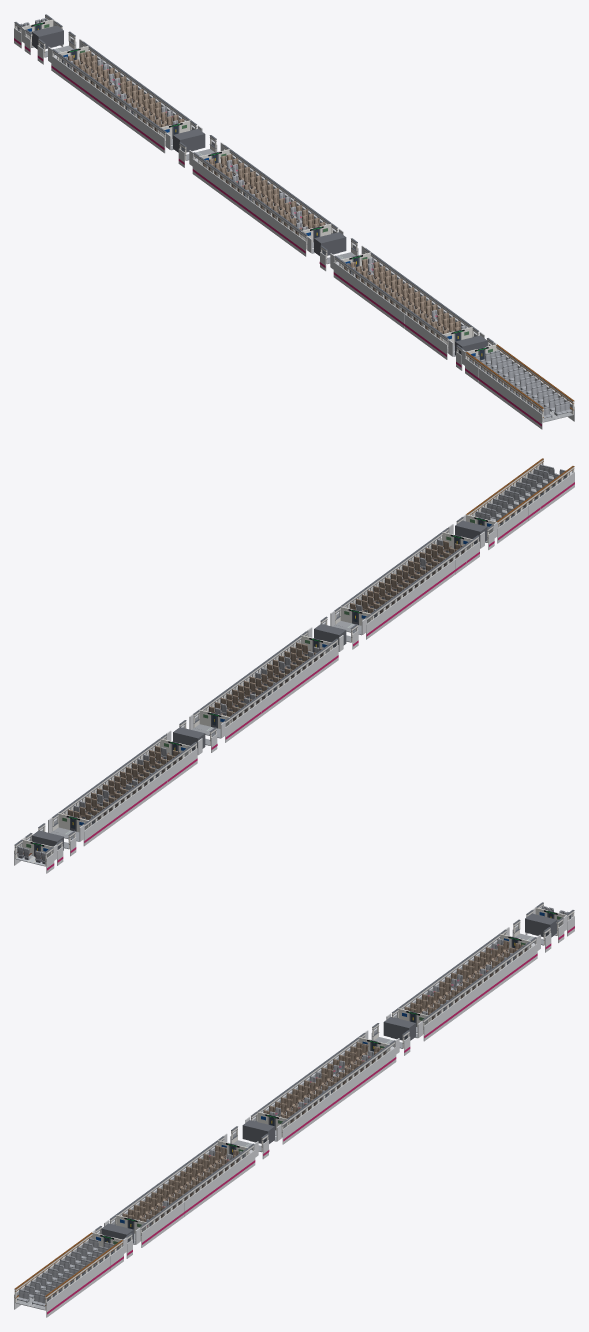
Rendered from car_ekonomiPremium.glb.
The picture shows the model from 3 angles, top to bottom: view 1: azimuth 30°, elevation 25°; view 2: azimuth 150°, elevation 25°; view 3: azimuth 330°, elevation 25°; orthographic projection.
Visible parts, largest first — view 1: global_st_1, global_st_2, global_st_3; view 2: no part large enough to name; view 3: global_st_1, global_st_2, global_st_3.
Part boxes in pixels (x1=…): global_st_1: x1=314, y1=232, x2=346, y2=255; global_st_2: x1=173, y1=129, x2=205, y2=152; global_st_3: x1=31, y1=25, x2=63, y2=49; global_st_1: x1=242, y1=1120, x2=274, y2=1143; global_st_2: x1=383, y1=1017, x2=415, y2=1040; global_st_3: x1=525, y1=913, x2=557, y2=937.
Bounding box in the file's own units: 3.39 × 2.07 × 93.92.
50 materials, 10 textured.
